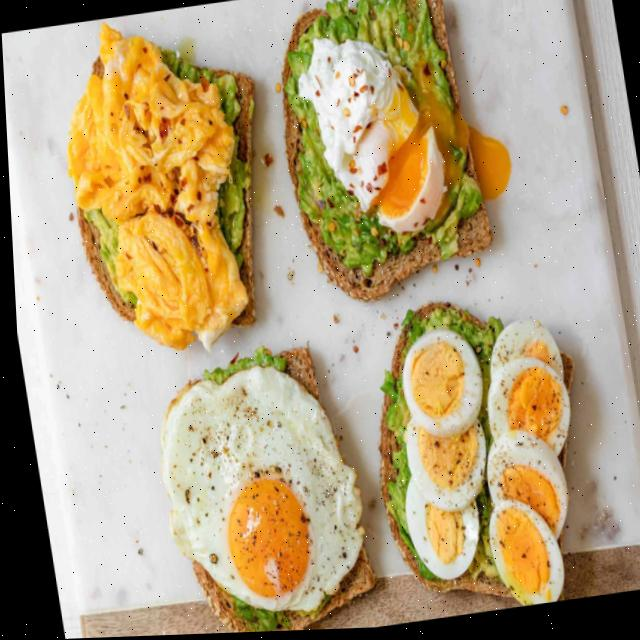Egg: (156, 365, 357, 612), (296, 40, 416, 213), (481, 432, 563, 541), (397, 330, 478, 440), (482, 359, 566, 457), (482, 502, 557, 609), (399, 420, 481, 514), (399, 478, 473, 581), (374, 128, 442, 234)
